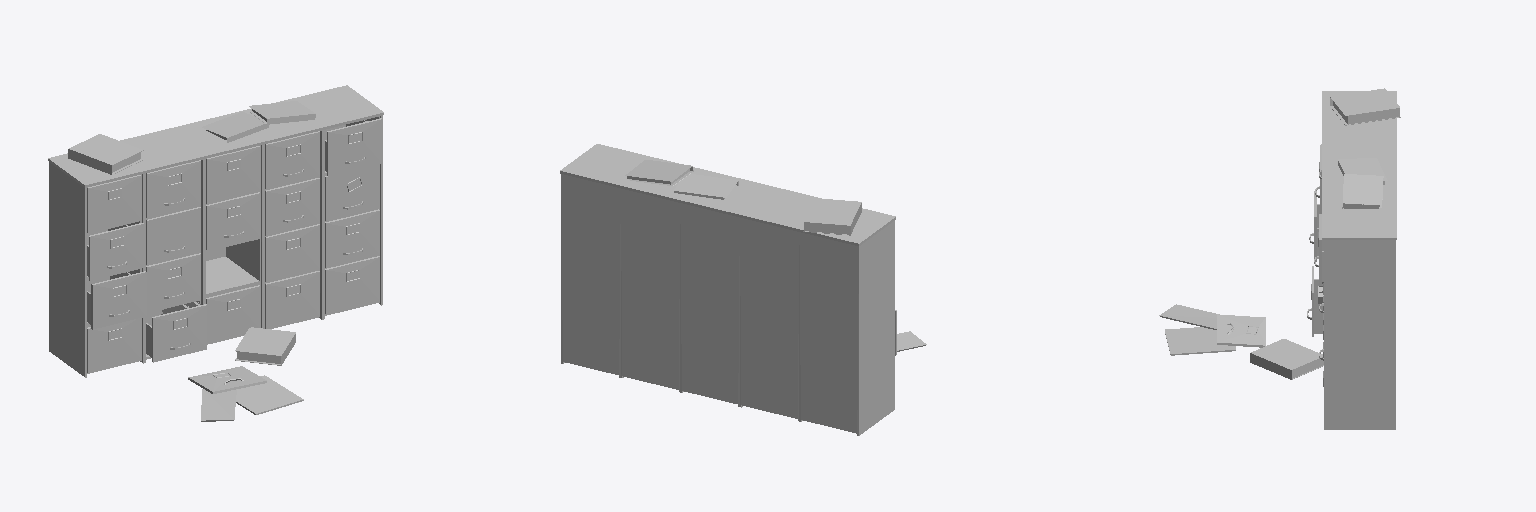
The model's file is Filecabinet02.obj.
3 renders of one model, left to right at view 1: azimuth 30°, elevation 25°; view 2: azimuth 150°, elevation 25°; view 3: azimuth 270°, elevation 25°, orthographic.
Parts seen in each view (by area): view 1: FileCab_02_LOD0_Filecab01.002; view 2: FileCab_02_LOD0_Filecab01.002; view 3: FileCab_02_LOD0_Filecab01.002.
Boxes of the visible parts, x1,y1,x2,y2 form: FileCab_02_LOD0_Filecab01.002: [48, 85, 383, 421]; FileCab_02_LOD0_Filecab01.002: [560, 144, 926, 435]; FileCab_02_LOD0_Filecab01.002: [1159, 88, 1400, 429].
Bounding box in the file's own units: 2.27 × 1.5 × 1.59.